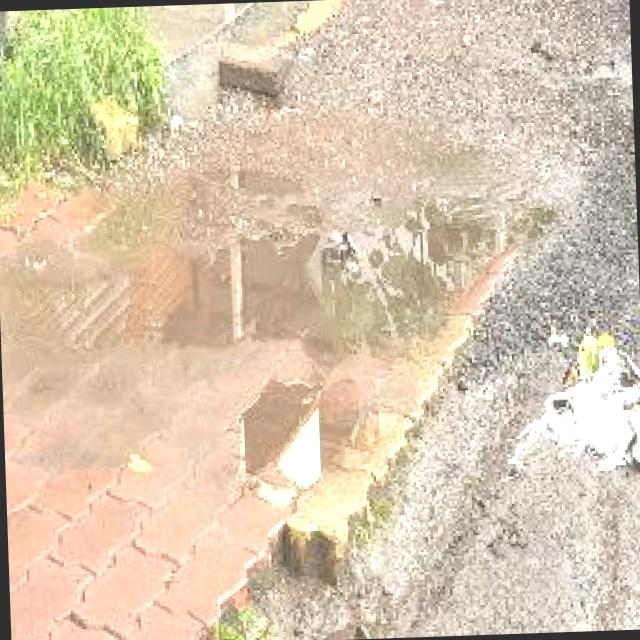stagnation: (130, 156, 556, 371)
